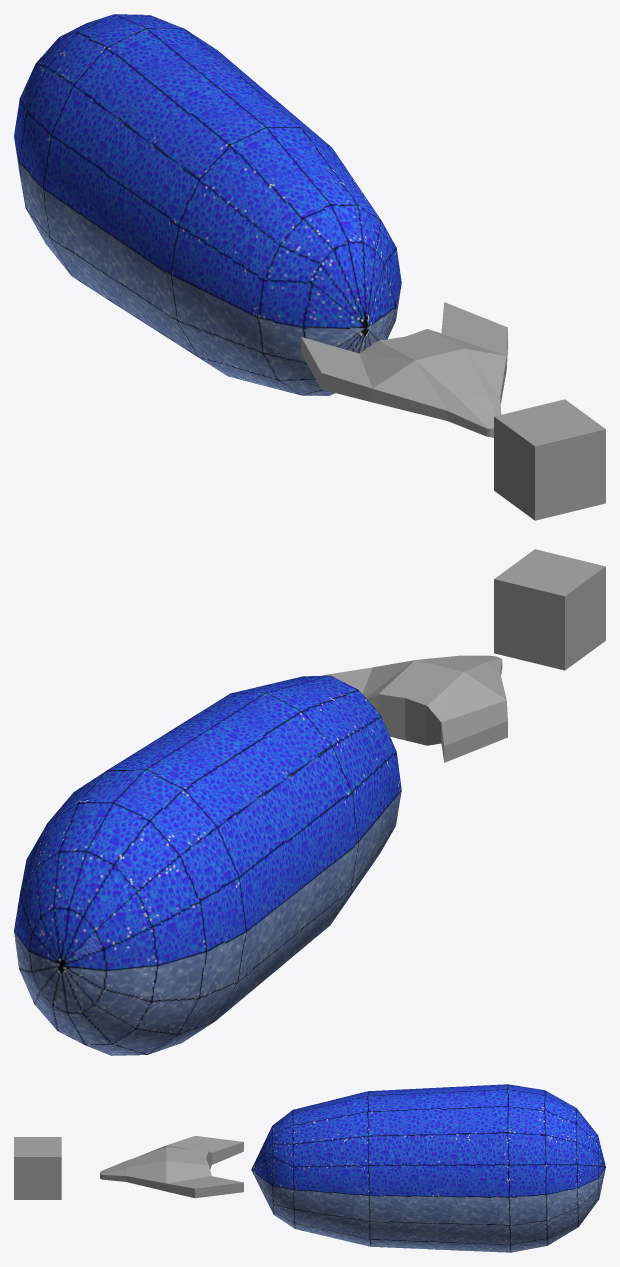
Rendered from spaceshipNEWtest.obj.
3 views of the same model, one above another, from view 1: azimuth 30°, elevation 25°; view 2: azimuth 150°, elevation 25°; view 3: azimuth 270°, elevation 25° (orthographic). The views are drawn at different scales.
Bounding box in the file's own units: 1.41 × 1.81 × 6.12.
